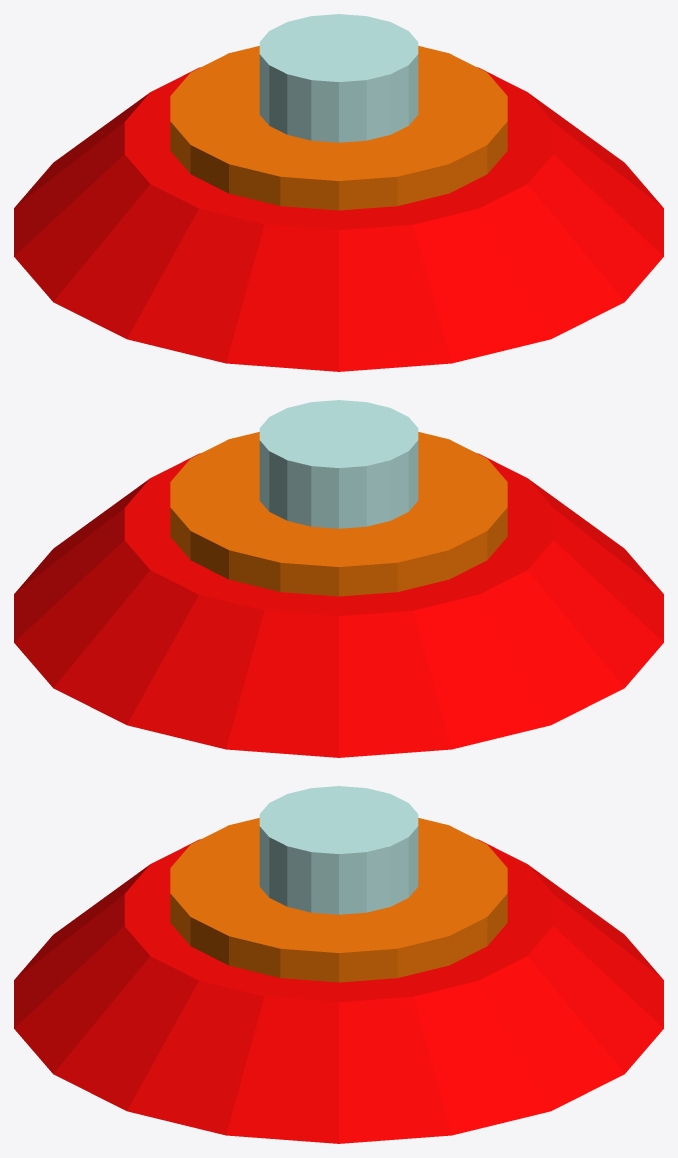
The model's file is LowPolyBombMount.FBX.
The picture shows the model from 3 angles, top to bottom: view 1: azimuth 30°, elevation 25°; view 2: azimuth 150°, elevation 25°; view 3: azimuth 270°, elevation 25°; orthographic projection.
Parts seen in each view (by area): view 1: Cylinder001; view 2: Cylinder001; view 3: Cylinder001.
Boxes of the visible parts, x1,y1,x2,y2 form: Cylinder001: (14, 14, 663, 371); Cylinder001: (14, 400, 663, 757); Cylinder001: (14, 786, 663, 1143).
Bounding box in the file's own units: 100 × 30.82 × 98.48.
